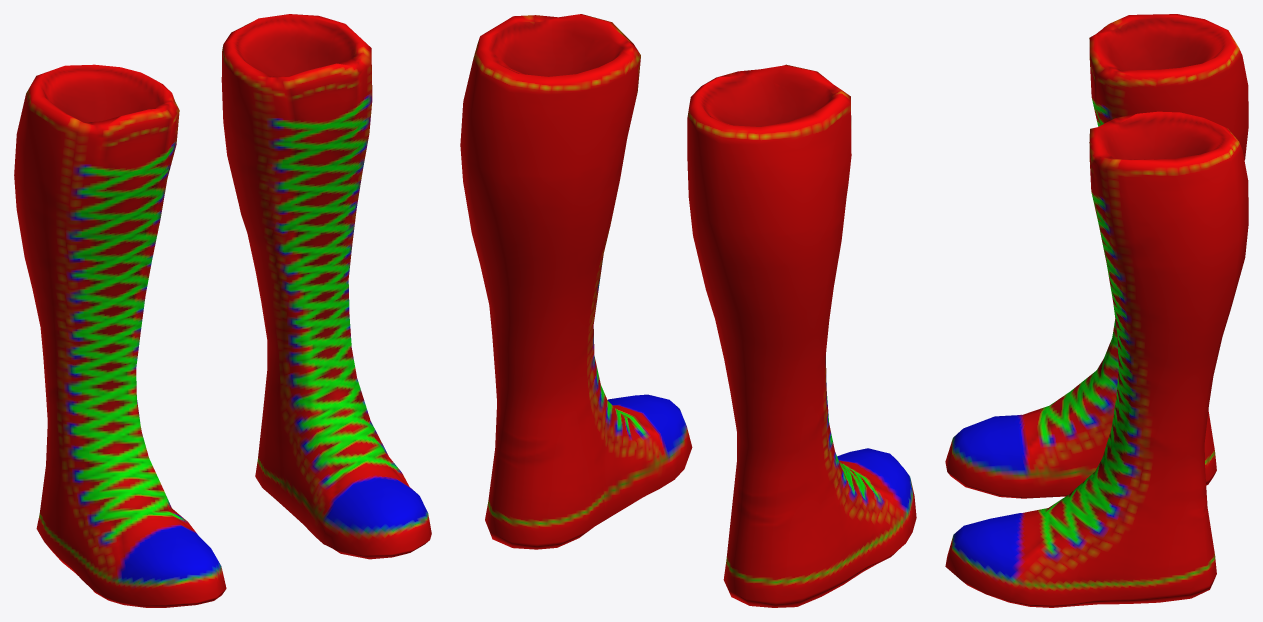
File: Feet_HighLaceShoe.obj
3 renders of one model, left to right at view 1: azimuth 30°, elevation 25°; view 2: azimuth 150°, elevation 25°; view 3: azimuth 270°, elevation 25°, orthographic. The views are drawn at different scales.
Parts seen in each view (by area): view 1: Feet_HighLaceShoe_0; view 2: Feet_HighLaceShoe_0; view 3: Feet_HighLaceShoe_0.
Boxes of the visible parts, box(x1,y1,x2,y2) form: Feet_HighLaceShoe_0: box(14, 14, 431, 607); Feet_HighLaceShoe_0: box(460, 14, 916, 607); Feet_HighLaceShoe_0: box(945, 14, 1248, 607).
Bounding box in the file's own units: 0.3426 × 0.4458 × 0.2749.
Materials: 1 (1 with a texture image).
